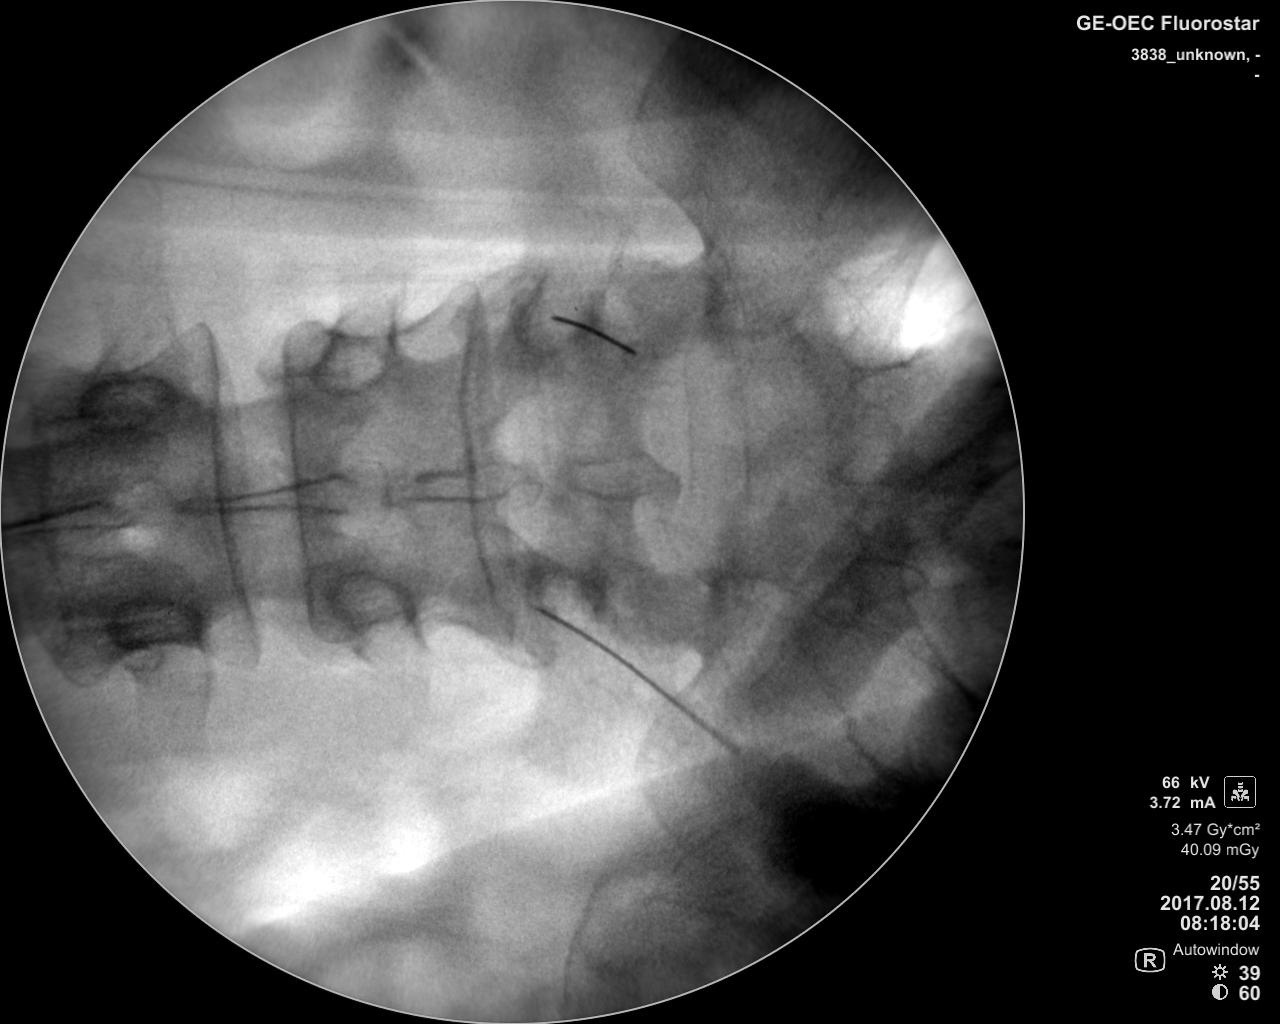eyes: (700, 258, 810, 338), (503, 277, 600, 360), (76, 370, 182, 437), (303, 324, 397, 396), (325, 571, 425, 636), (699, 567, 792, 636), (521, 558, 608, 629), (106, 594, 207, 652)
line: (189, 310, 262, 667), (451, 259, 514, 643), (271, 300, 326, 648), (30, 387, 78, 672), (707, 330, 762, 559)
nose: (171, 467, 362, 519), (554, 446, 681, 504), (399, 453, 532, 503), (3, 495, 143, 541)
